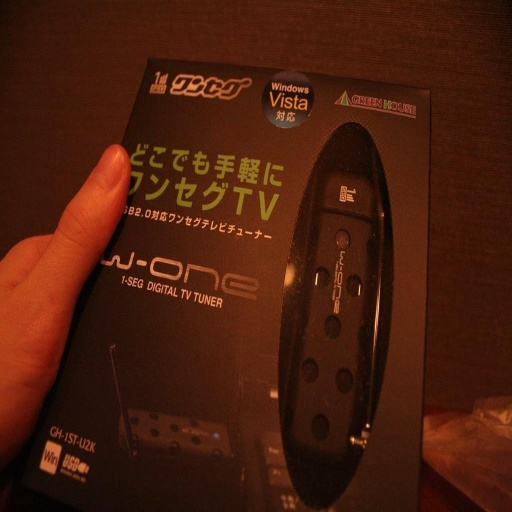hand: (0, 140, 133, 469)
